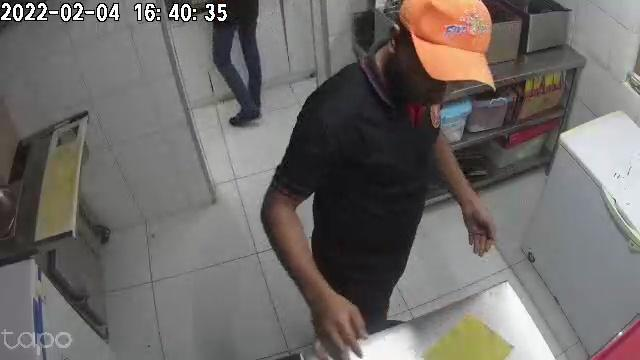no_gloves: (460, 194, 497, 257)
